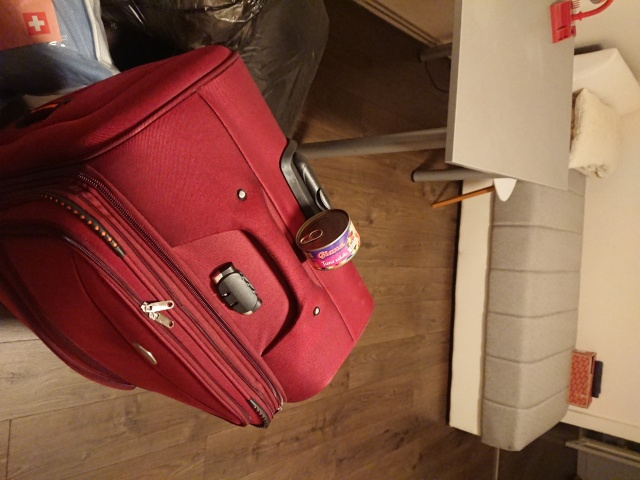Giana Tuna Salad Mexico 185g: (293, 206, 362, 273)
